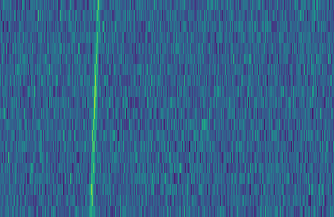signal: (85, 0, 101, 217)
